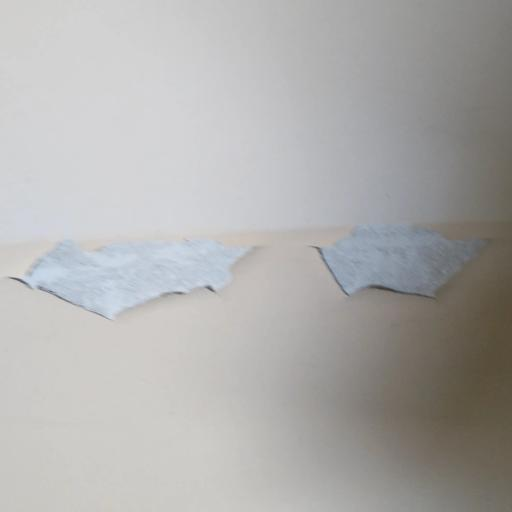peeling: (13, 238, 270, 332), (306, 214, 509, 308)
